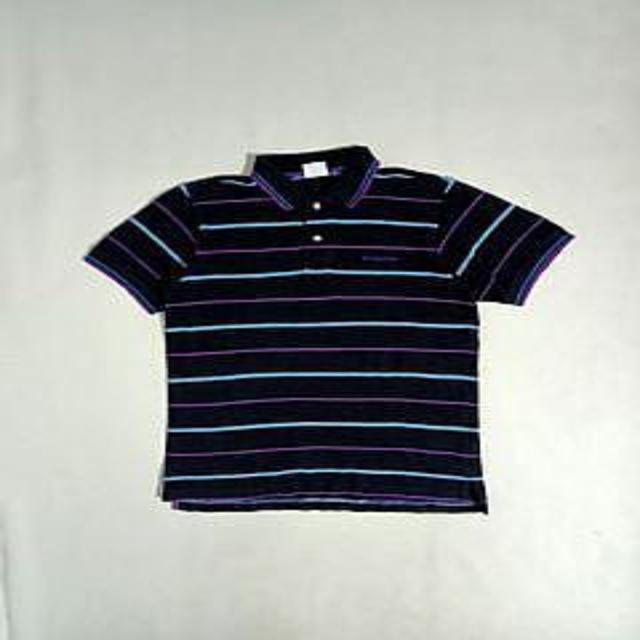T_SHIRT: (73, 131, 586, 528)
